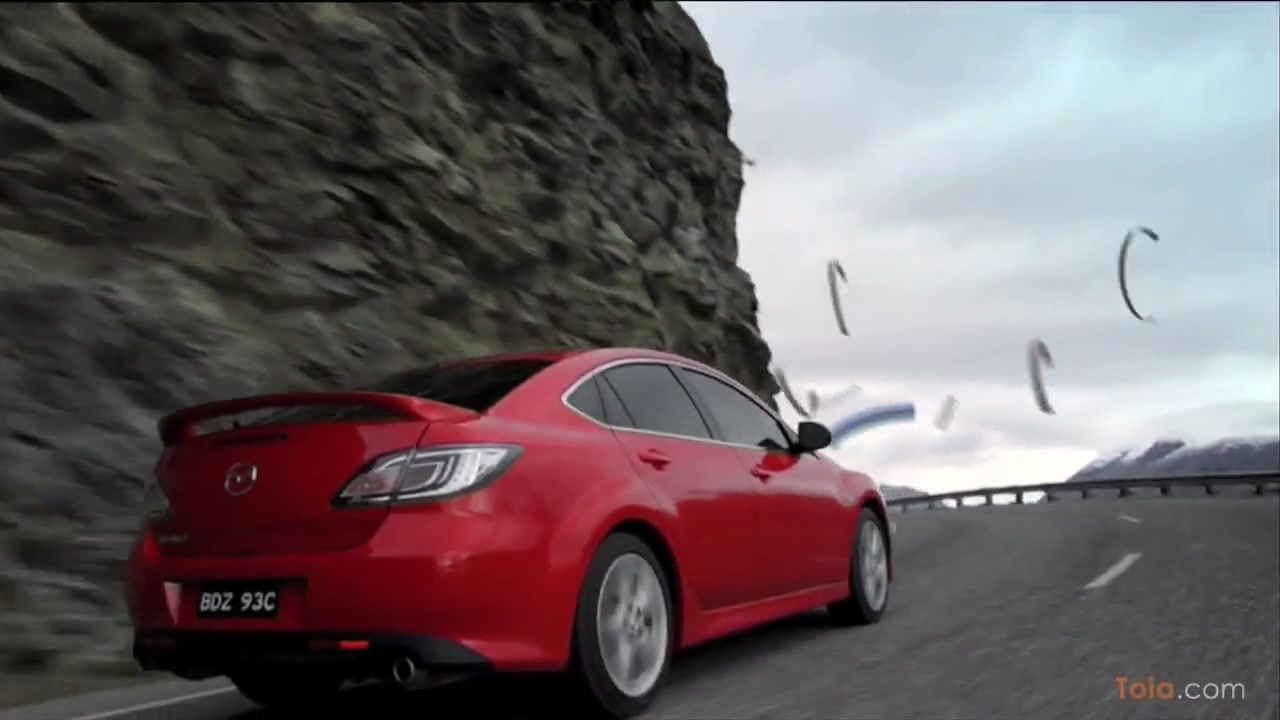car: (128, 346, 899, 704)
